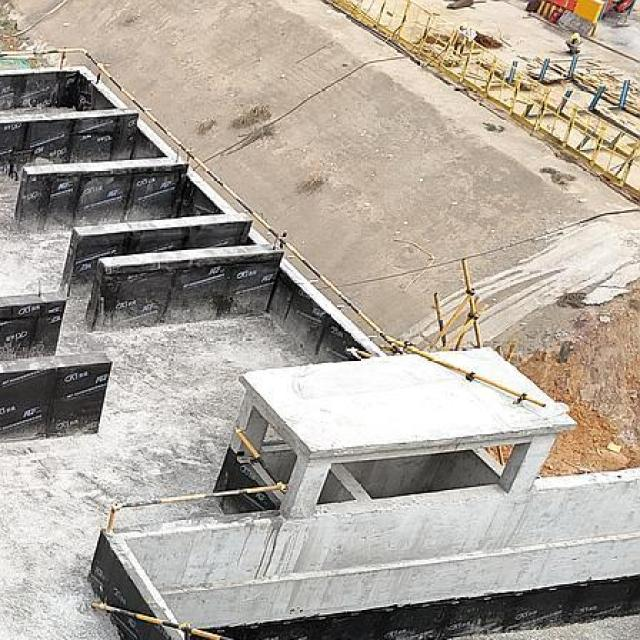edge_guardrail: (1, 47, 405, 356), (106, 424, 290, 533), (90, 601, 237, 640)
